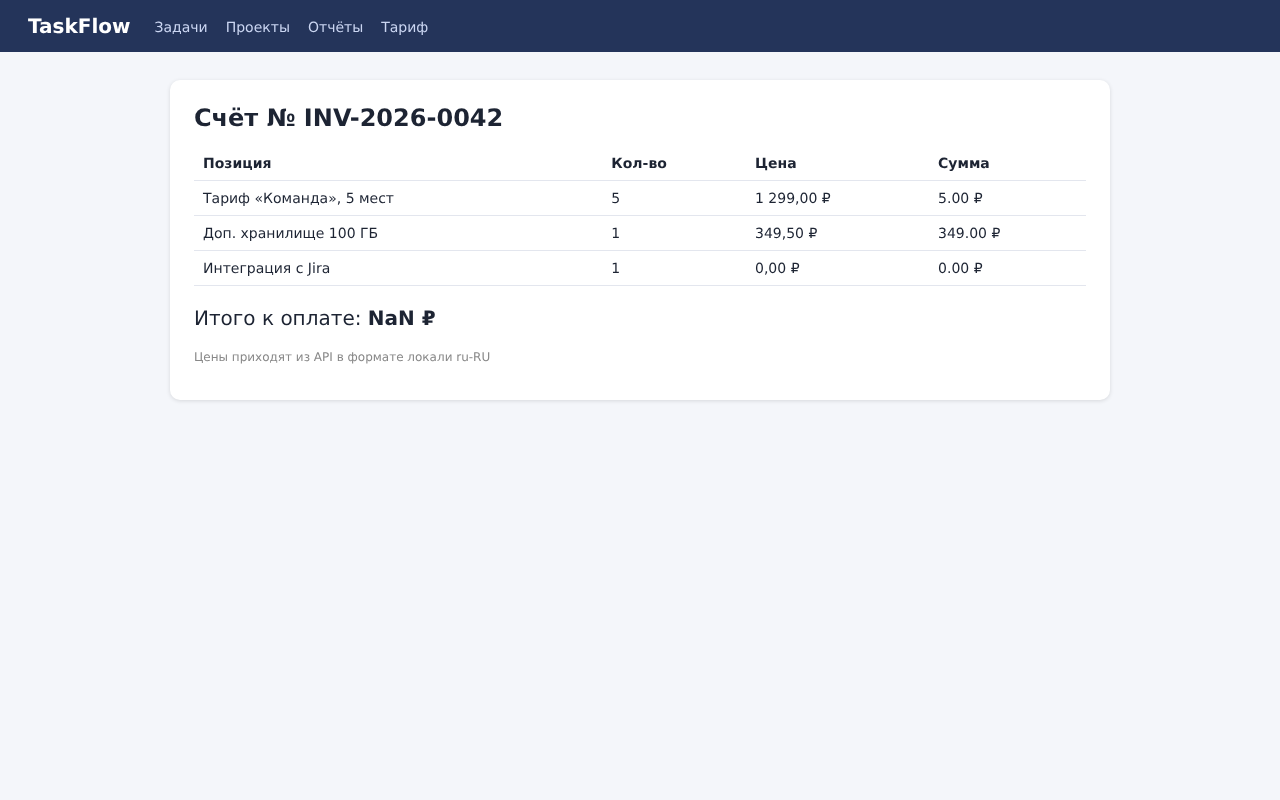DEFECT_AREA: (369, 310, 435, 326), (939, 227, 1000, 239), (939, 192, 982, 204), (939, 262, 982, 274)
